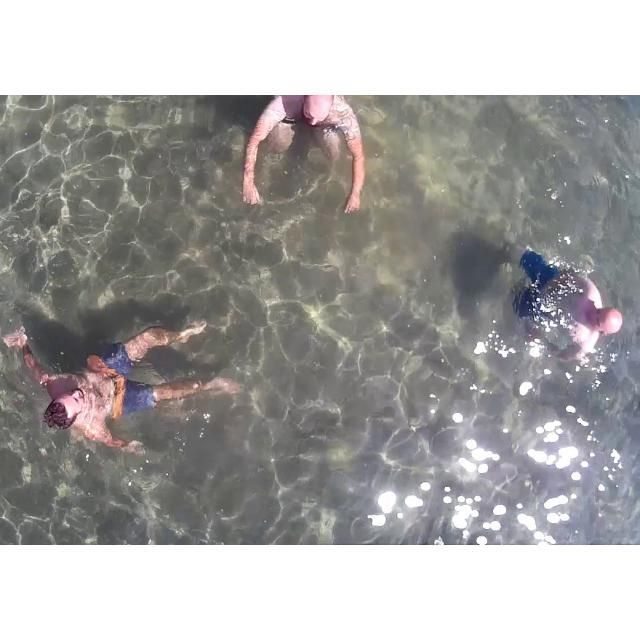human: (8, 312, 235, 472), (501, 228, 623, 373), (238, 95, 375, 223)
